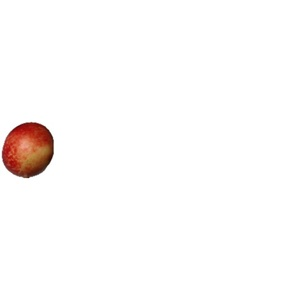nectarina: (2, 122, 54, 179)
